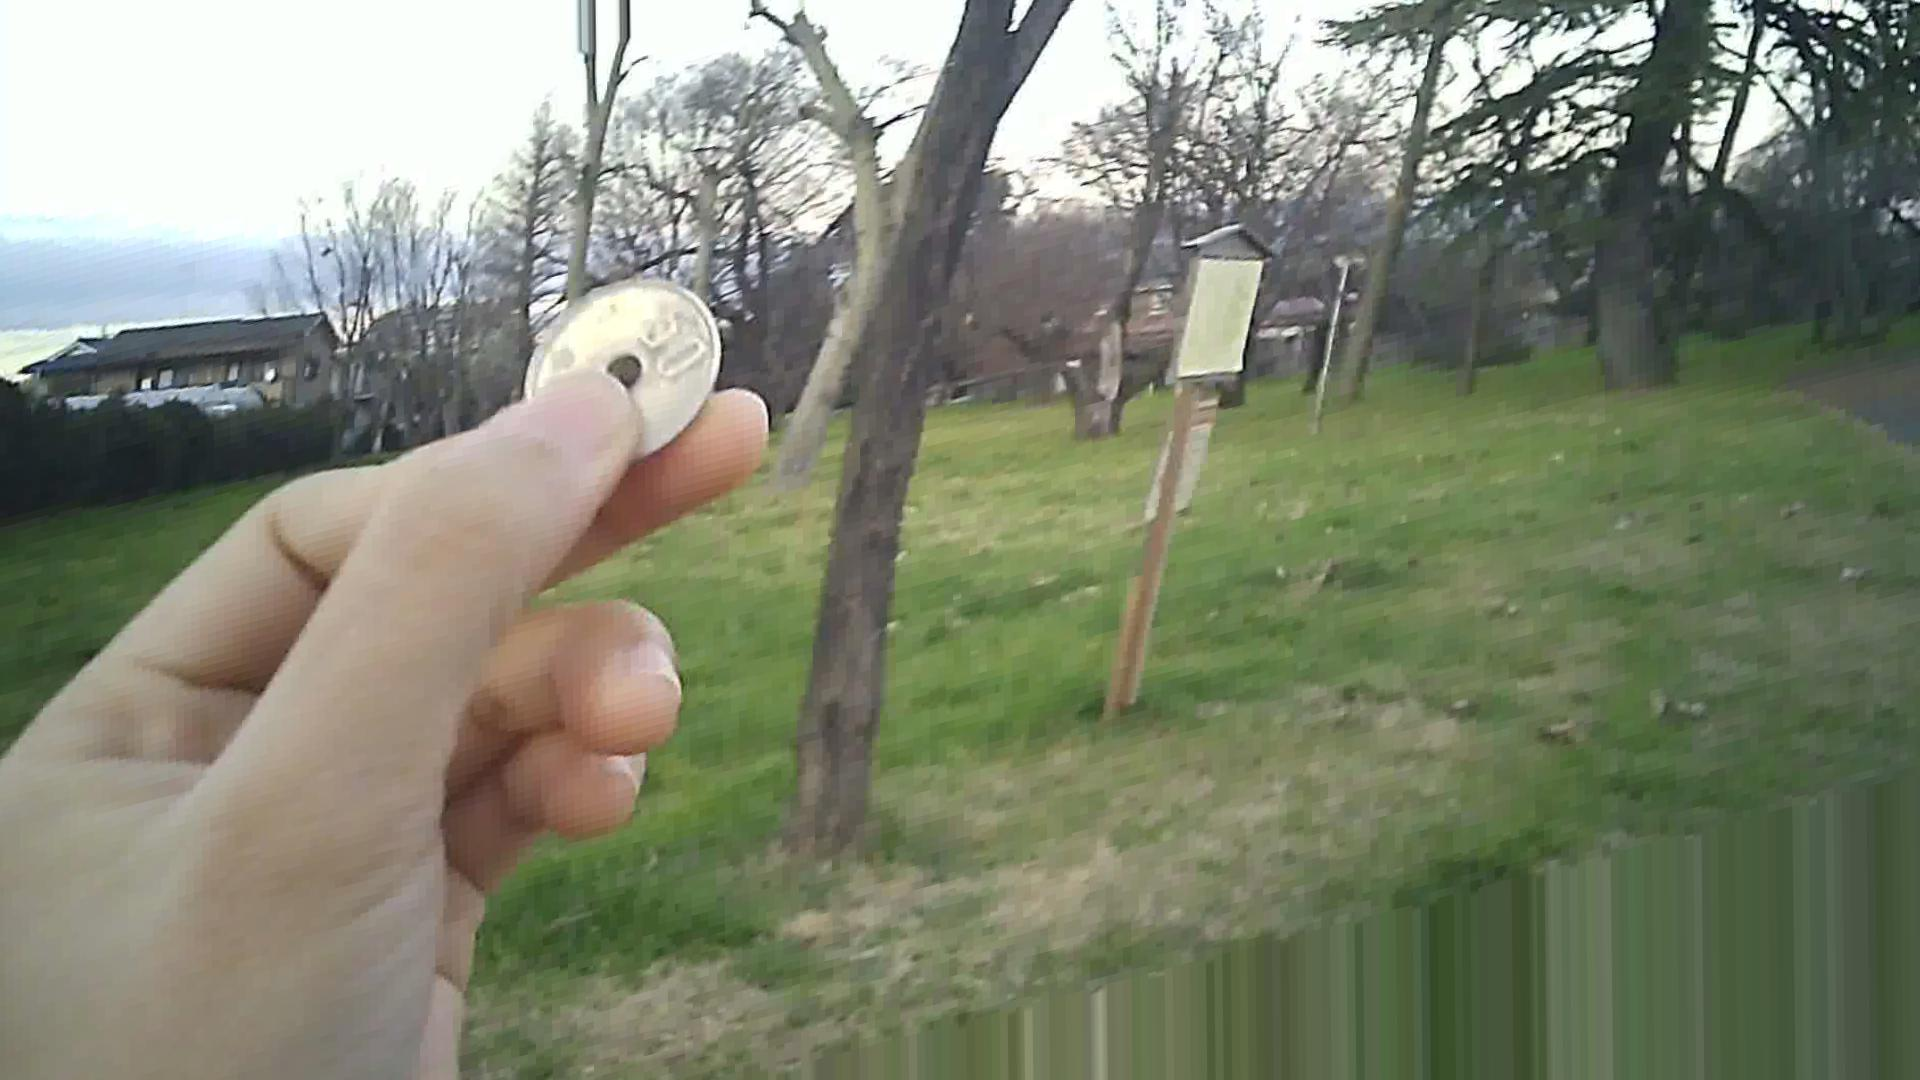50 Yen: (518, 272, 717, 465)
